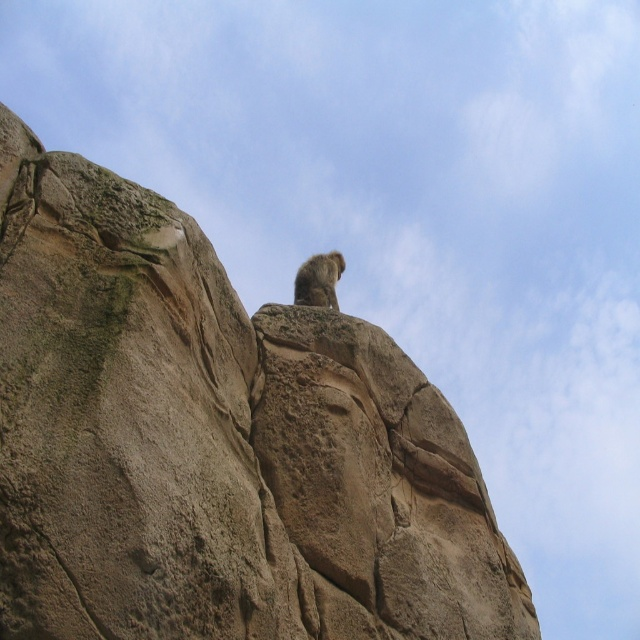Monkey: (287, 251, 350, 328)
